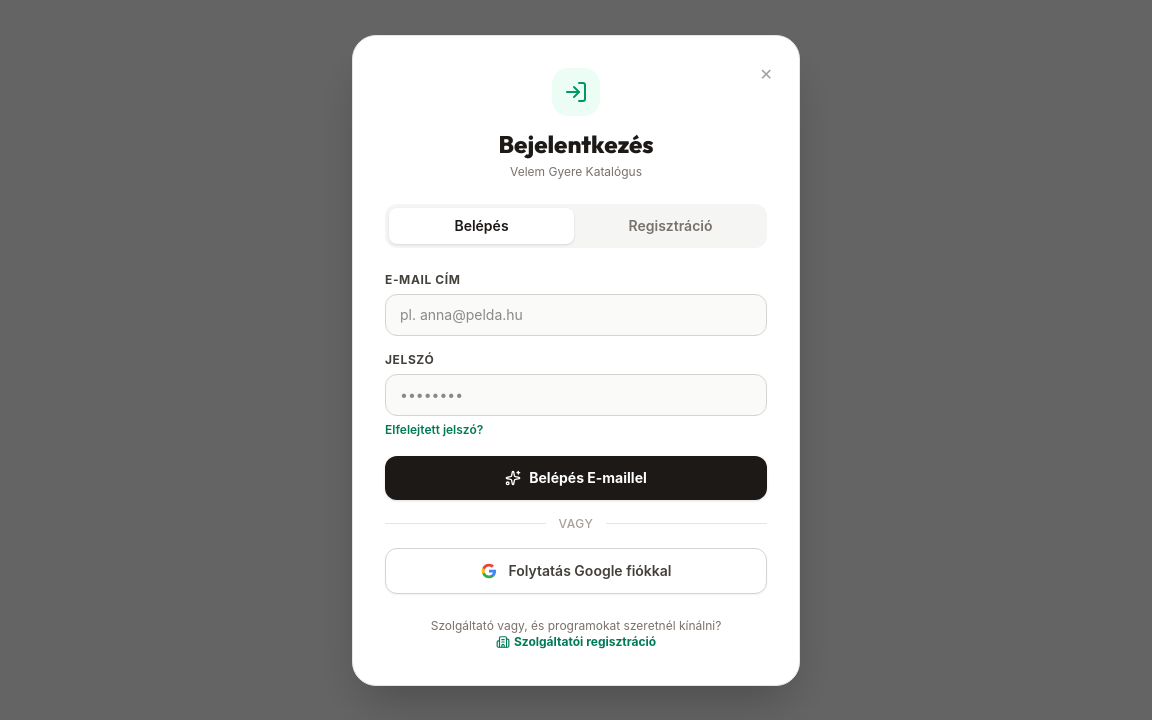
it: LoginModal -- hibauzenet megjelenitese › megjeleniti a login() altal visszaadott hibauzenetet sikertelen bejelentkezesnel
Type "anna@example.com" into the field with placeholder "pl. anna@pelda.hu". click: (576, 314)
box: [385,294,767,336]
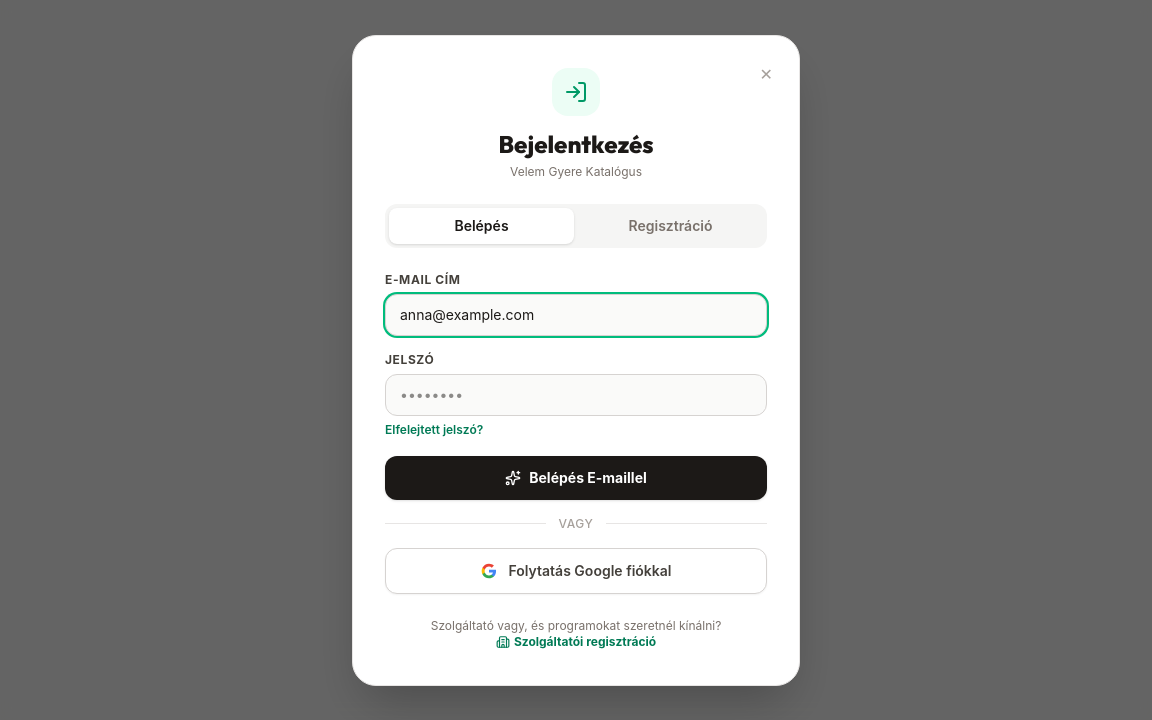
Type "rosszjelszo" into the password field with placeholder "••••••••". click: (576, 394)
box: [385,374,767,416]
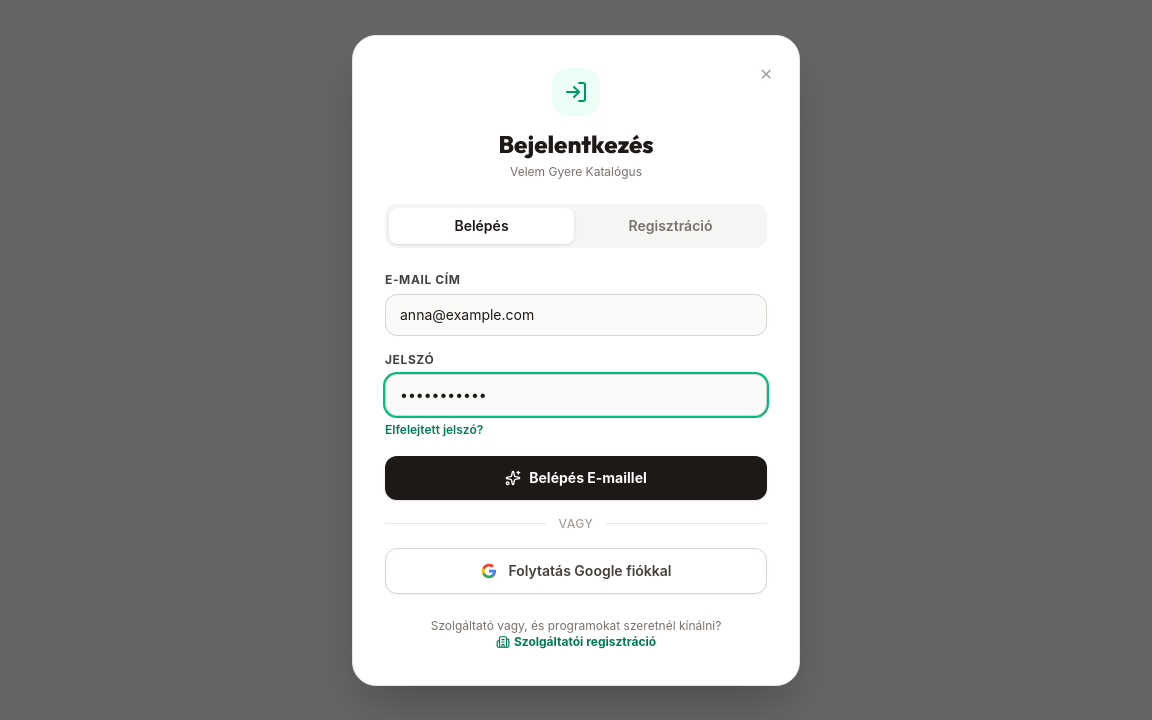
Click the button "Belépés E-maillel". click: (576, 478)
box: [385,456,767,500]
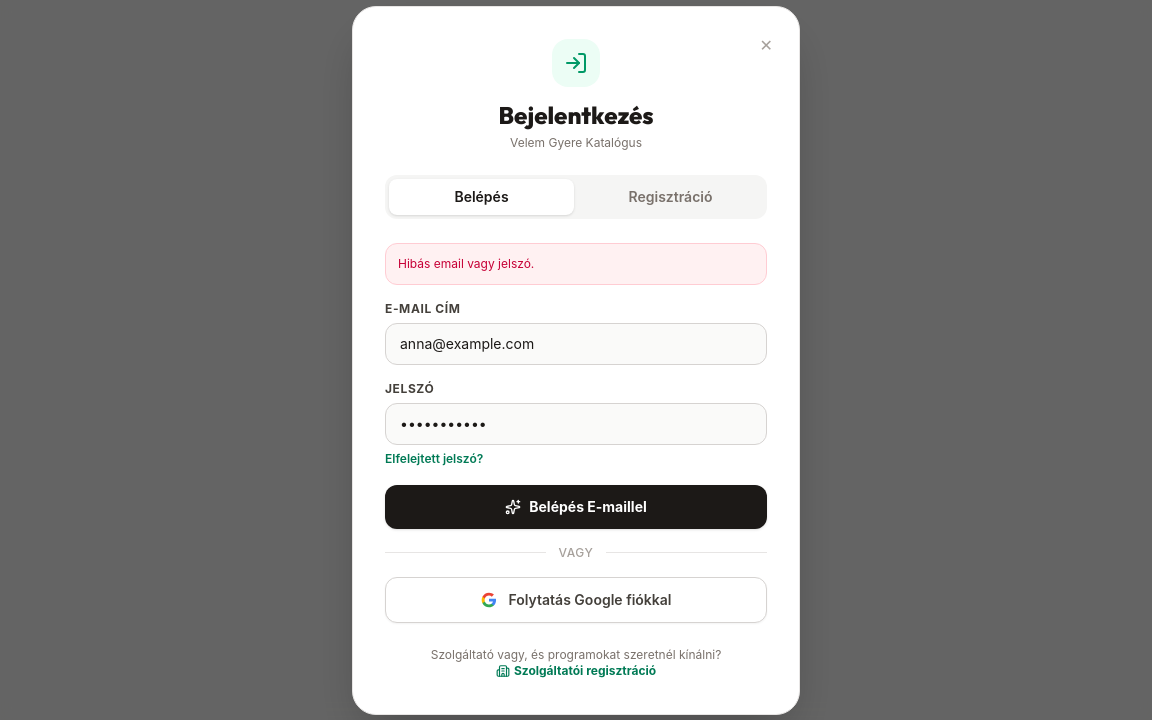
Now the text "Hibás email vagy jelszó." is shown, box [385,242,767,284]
